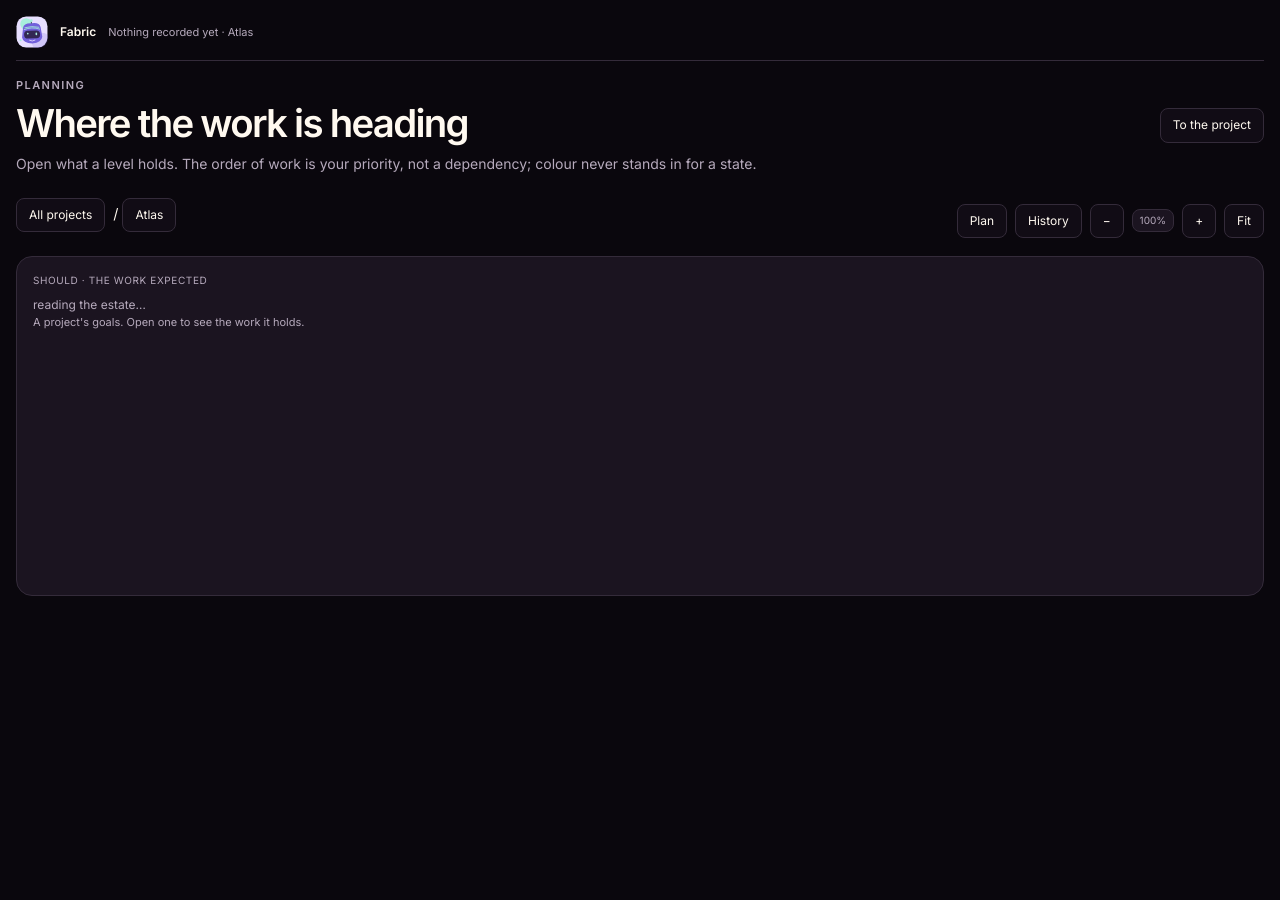
Test: planning, level by level (SCR-40) › the breadcrumb goes back up without losing the way
Expected: the button "Atlas" is shown, top-left (122, 198), bottom-right (176, 232)
Click the button "All projects" at (61, 215), box top-left (16, 198), bottom-right (105, 232)
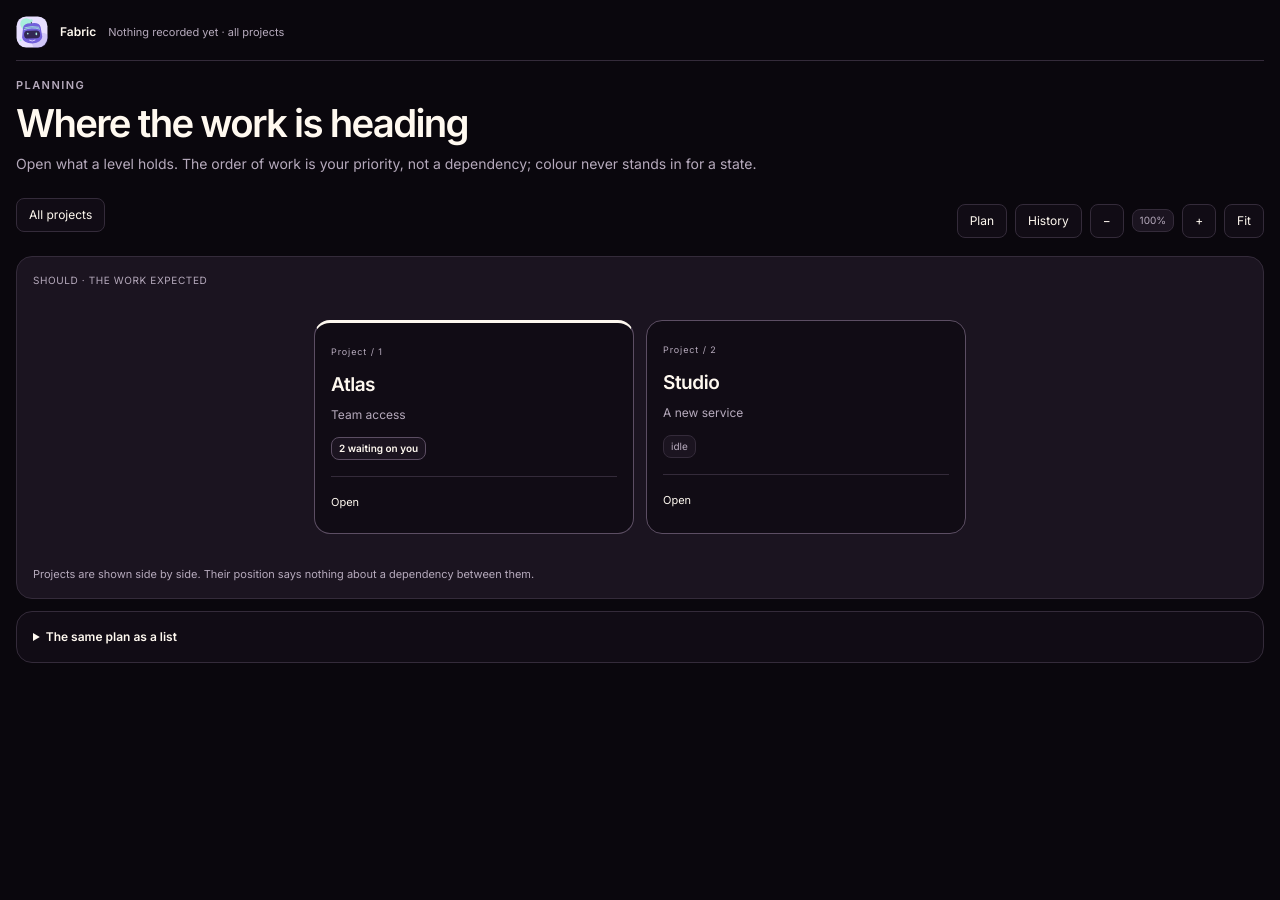
Expected: the heading "Studio" is shown, top-left (663, 371), bottom-right (719, 394)
